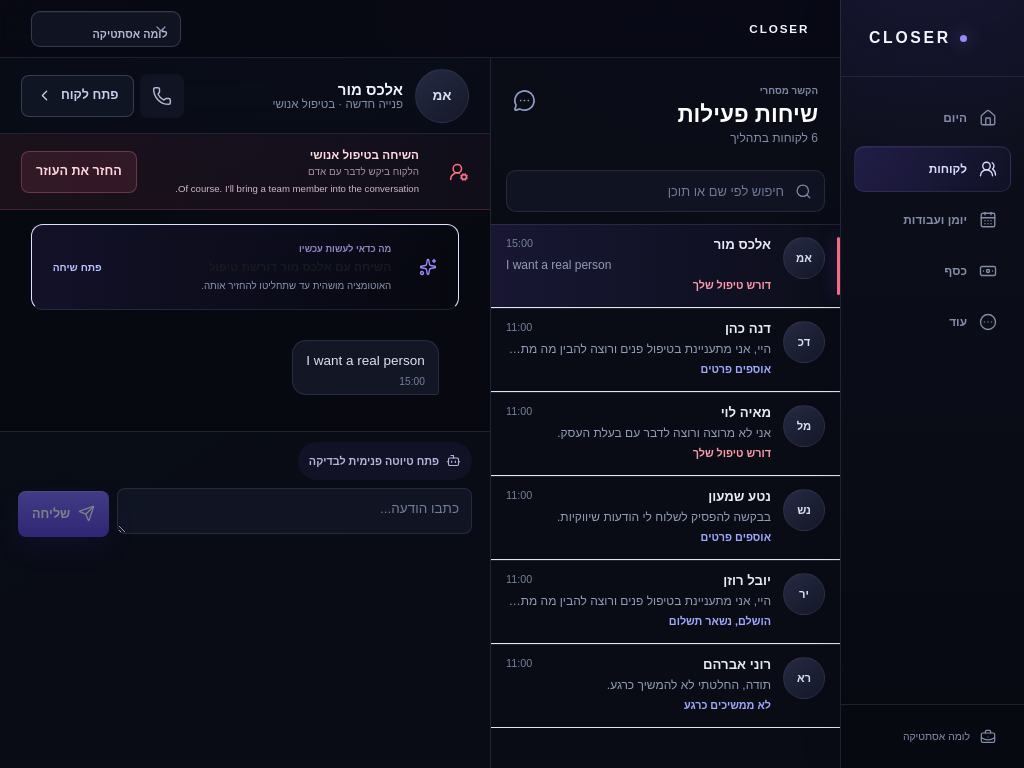
Scenario: production product experience › keeps an assistant suggestion internal while Human Takeover is active
This screenshot has width=1024, height=768.
Expected: the text "הלקוח ביקש לדבר עם אדם" is shown, [308,166,419,176]
Expected: the button "החזר את העוזר" is shown, [21,150,137,192]
Click the button "פתח טיוטה פנימית לבדיקה" at (385,461), box [298,442,472,480]
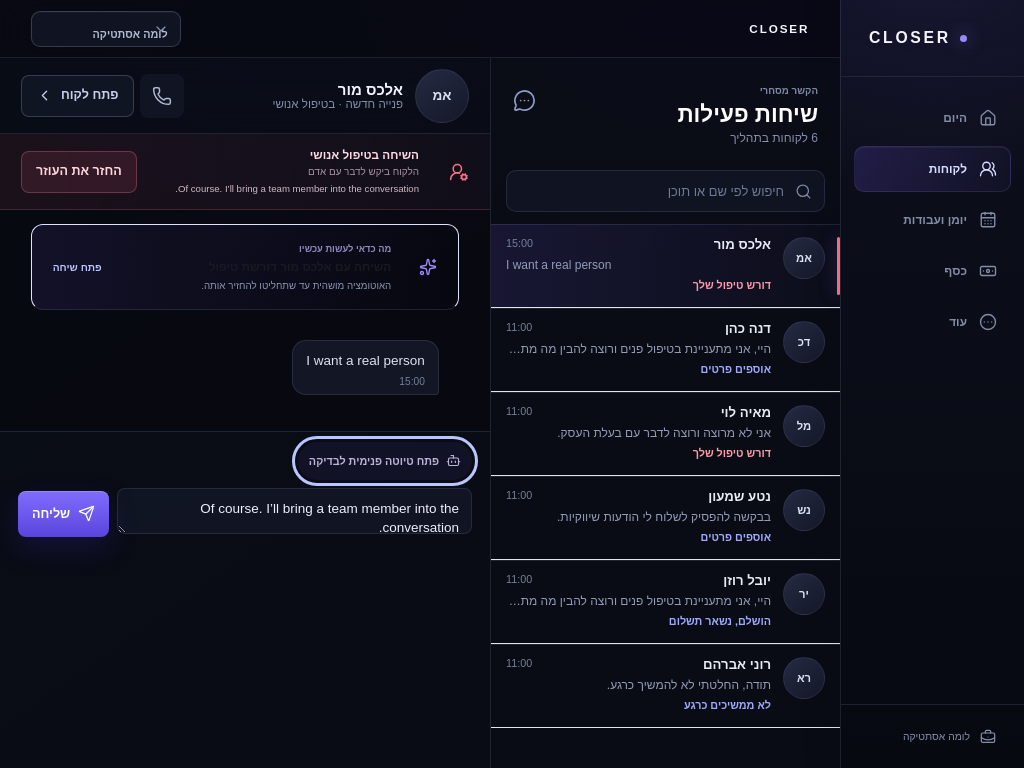
Result: the text box named "כתיבת הודעה" holds "Of course. I’ll bring a team member into the conversation." at [117,488,472,534]
